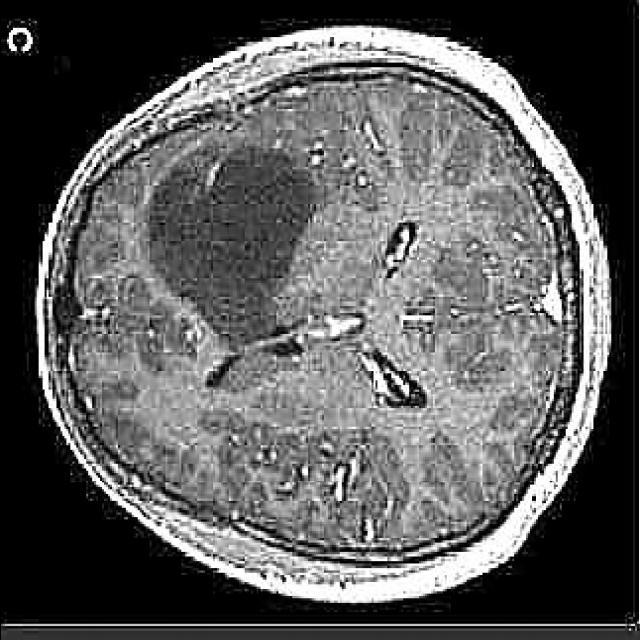tumor: (145, 146, 313, 343)
